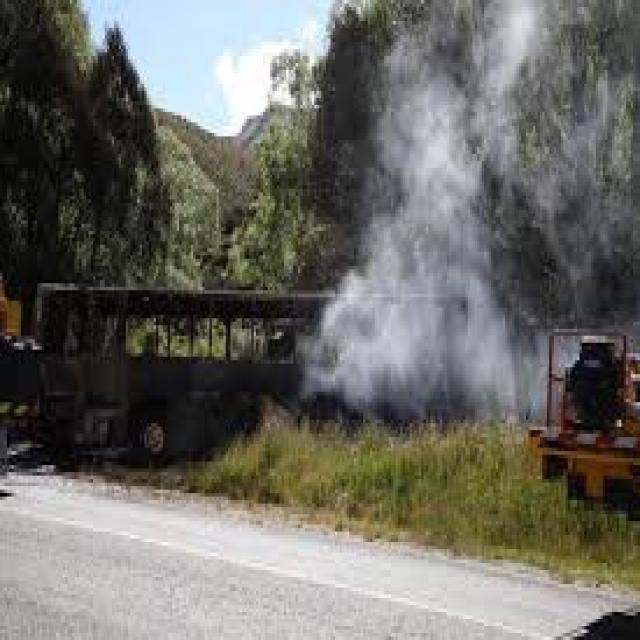smoke: (330, 67, 584, 412)
